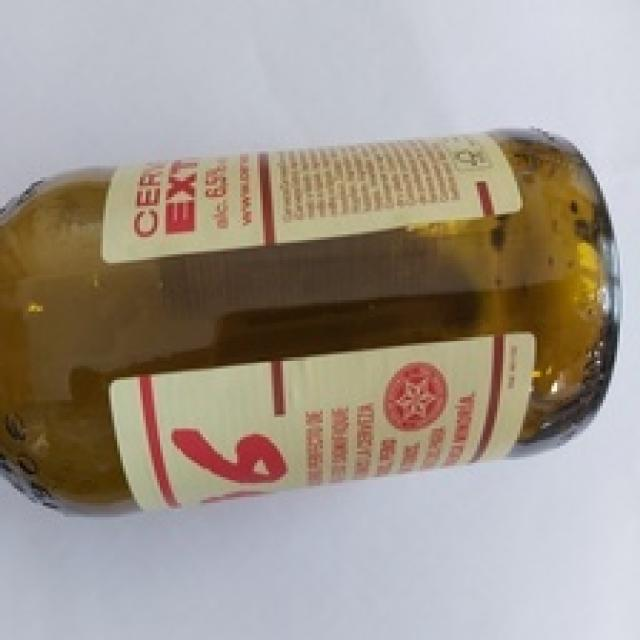Glass: (0, 123, 626, 520)
